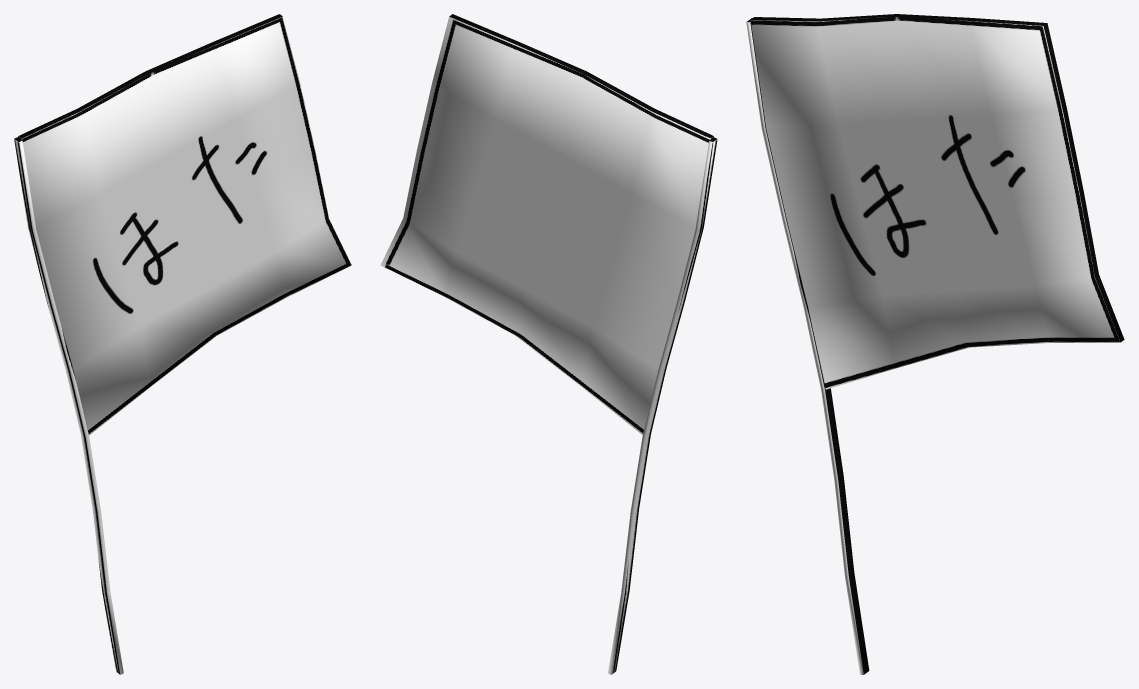
The model's file is hata.fbx.
3 renders of one model, left to right at view 1: azimuth 30°, elevation 25°; view 2: azimuth 150°, elevation 25°; view 3: azimuth 330°, elevation 25°, orthographic. The views are drawn at different scales.
Visible parts, largest first — view 1: acckami001; view 2: acckami001; view 3: acckami001.
Part boxes in pixels (bbox=[...]): acckami001: bbox=[14, 14, 351, 674]; acckami001: bbox=[380, 14, 717, 674]; acckami001: bbox=[746, 14, 1124, 674].
Size of the model in its own units: 6256 by 11087 by 160.
Materials: 1 (1 with a texture image).
